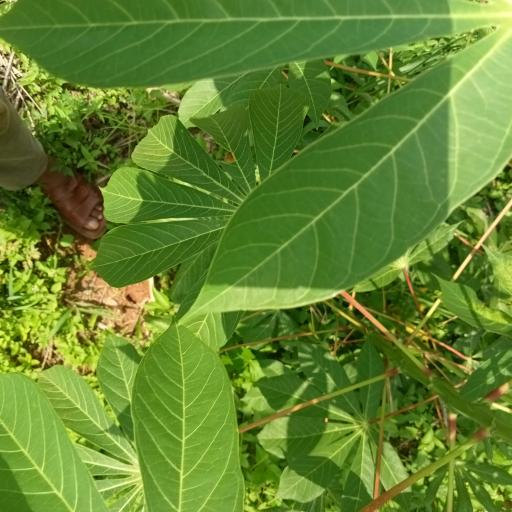Cassava_Healthy: (186, 30, 512, 318), (0, 324, 248, 512), (0, 2, 512, 86)
